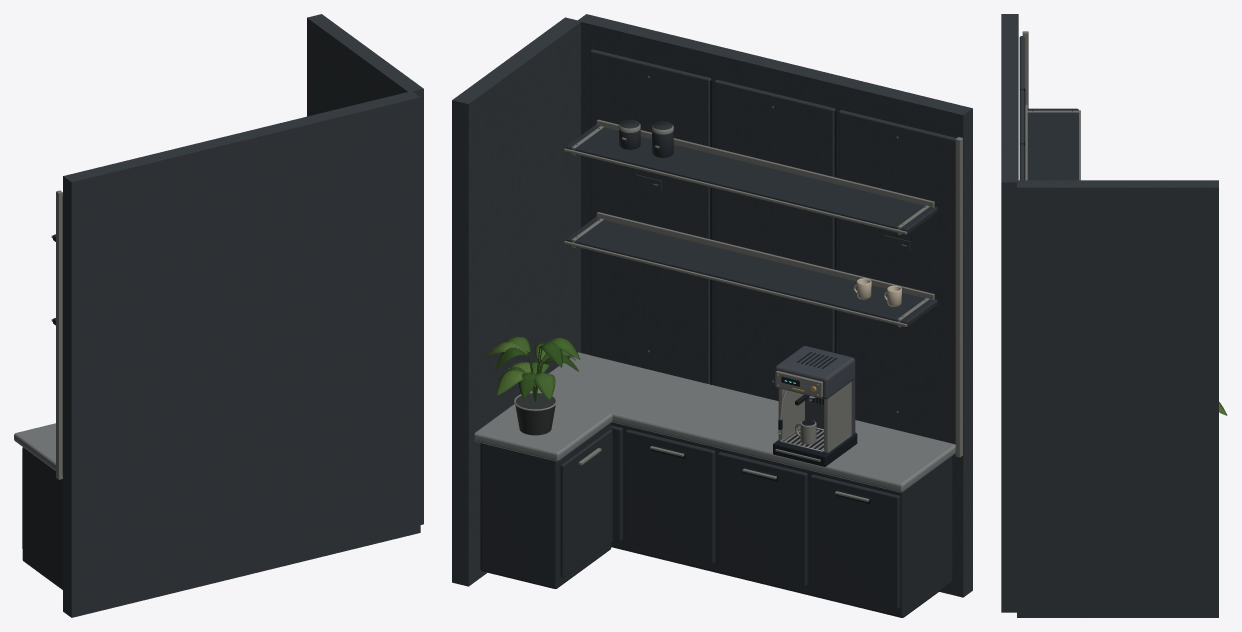
The model's file is cruz-del-sur-galley.glb.
3 views of the same model, side by side, from view 1: azimuth 30°, elevation 25°; view 2: azimuth 150°, elevation 25°; view 3: azimuth 270°, elevation 25° (orthographic). The views are drawn at different scales.
Parts seen in each view (by area): view 1: GALLEY_static_TRANSITION_PBR_GALLEY_WALL_FINISH_Fine_graphit, GALLEY_static_TRANSITION_PBR_GALLEY_POLISH_Graphite_ceramic_, GALLEY_static_TRANSITION_PBR_CEILING_FINISH_Brushed_edge_all, GALLEY_static_TRANSITION_PBR_GALLEY_WALL_Pale_brushed_compos; view 2: GALLEY_static_TRANSITION_PBR_GALLEY_WALL_FINISH_Fine_graphit, GALLEY_static_TRANSITION_PBR_GALLEY_POLISH_Graphite_ceramic_, GALLEY_static_TRANSITION_PBR_GALLEY_WALL_Pale_brushed_compos, GALLEY_static_TRANSITION_PBR_CEILING_FINISH_Brushed_edge_all, GALLEY_coffee_TRANSITION_PBR_CEILING_FINISH_Brushed_edge_all, GALLEY_coffee_TRANSITION_PBR_CEILING_FINISH_Satin_charcoal_t, GALLEY_coffee_TRANSITION_PBR_CEILING_POLISH_Matte_recessed_g, GALLEY_static_TRANSITION_PBR_CEILING_POLISH_Matte_recessed_g, GALLEY_static_TRANSITION_PBR_GALLEY_POLISH_Leaf_0, GALLEY_static_TRANSITION_PBR_GALLEY_POLISH_Powder_coated_pot, GALLEY_static_TRANSITION_PBR_GALLEY_POLISH_Leaf_1, GALLEY_static_TRANSITION_PBR_GALLEY_POLISH_Leaf_2; view 3: GALLEY_static_TRANSITION_PBR_GALLEY_WALL_FINISH_Fine_graphit, GALLEY_static_TRANSITION_PBR_GALLEY_POLISH_Graphite_ceramic_, GALLEY_static_TRANSITION_PBR_CEILING_FINISH_Brushed_edge_all.
Part boxes in pixels (x1,y1,x2,y2): GALLEY_static_TRANSITION_PBR_GALLEY_WALL_FINISH_Fine_graphit: (62,14,423,617); GALLEY_static_TRANSITION_PBR_GALLEY_POLISH_Graphite_ceramic_: (22,234,62,589); GALLEY_static_TRANSITION_PBR_CEILING_FINISH_Brushed_edge_all: (51,190,62,479); GALLEY_static_TRANSITION_PBR_GALLEY_WALL_Pale_brushed_compos: (14,423,55,470); GALLEY_static_TRANSITION_PBR_GALLEY_WALL_FINISH_Fine_graphit: (452,14,972,597); GALLEY_static_TRANSITION_PBR_GALLEY_POLISH_Graphite_ceramic_: (480,120,952,617); GALLEY_static_TRANSITION_PBR_GALLEY_WALL_Pale_brushed_compos: (474,352,955,492); GALLEY_static_TRANSITION_PBR_CEILING_FINISH_Brushed_edge_all: (514,76,962,501); GALLEY_coffee_TRANSITION_PBR_CEILING_FINISH_Brushed_edge_all: (775,370,851,461); GALLEY_coffee_TRANSITION_PBR_CEILING_FINISH_Satin_charcoal_t: (775,346,855,435); GALLEY_coffee_TRANSITION_PBR_CEILING_POLISH_Matte_recessed_g: (773,352,857,466); GALLEY_static_TRANSITION_PBR_CEILING_POLISH_Matte_recessed_g: (576,80,925,504); GALLEY_static_TRANSITION_PBR_GALLEY_POLISH_Leaf_0: (495,342,578,401); GALLEY_static_TRANSITION_PBR_GALLEY_POLISH_Powder_coated_pot: (515,393,555,435); GALLEY_static_TRANSITION_PBR_GALLEY_POLISH_Leaf_1: (506,337,580,400); GALLEY_static_TRANSITION_PBR_GALLEY_POLISH_Leaf_2: (485,341,545,395); GALLEY_static_TRANSITION_PBR_GALLEY_WALL_FINISH_Fine_graphit: (1001,14,1218,617); GALLEY_static_TRANSITION_PBR_GALLEY_POLISH_Graphite_ceramic_: (1027,108,1078,180); GALLEY_static_TRANSITION_PBR_CEILING_FINISH_Brushed_edge_all: (1022,31,1080,180).
Size of the model in its own units: 2.91 by 3.34 by 1.59.
17 materials, 8 textured.
